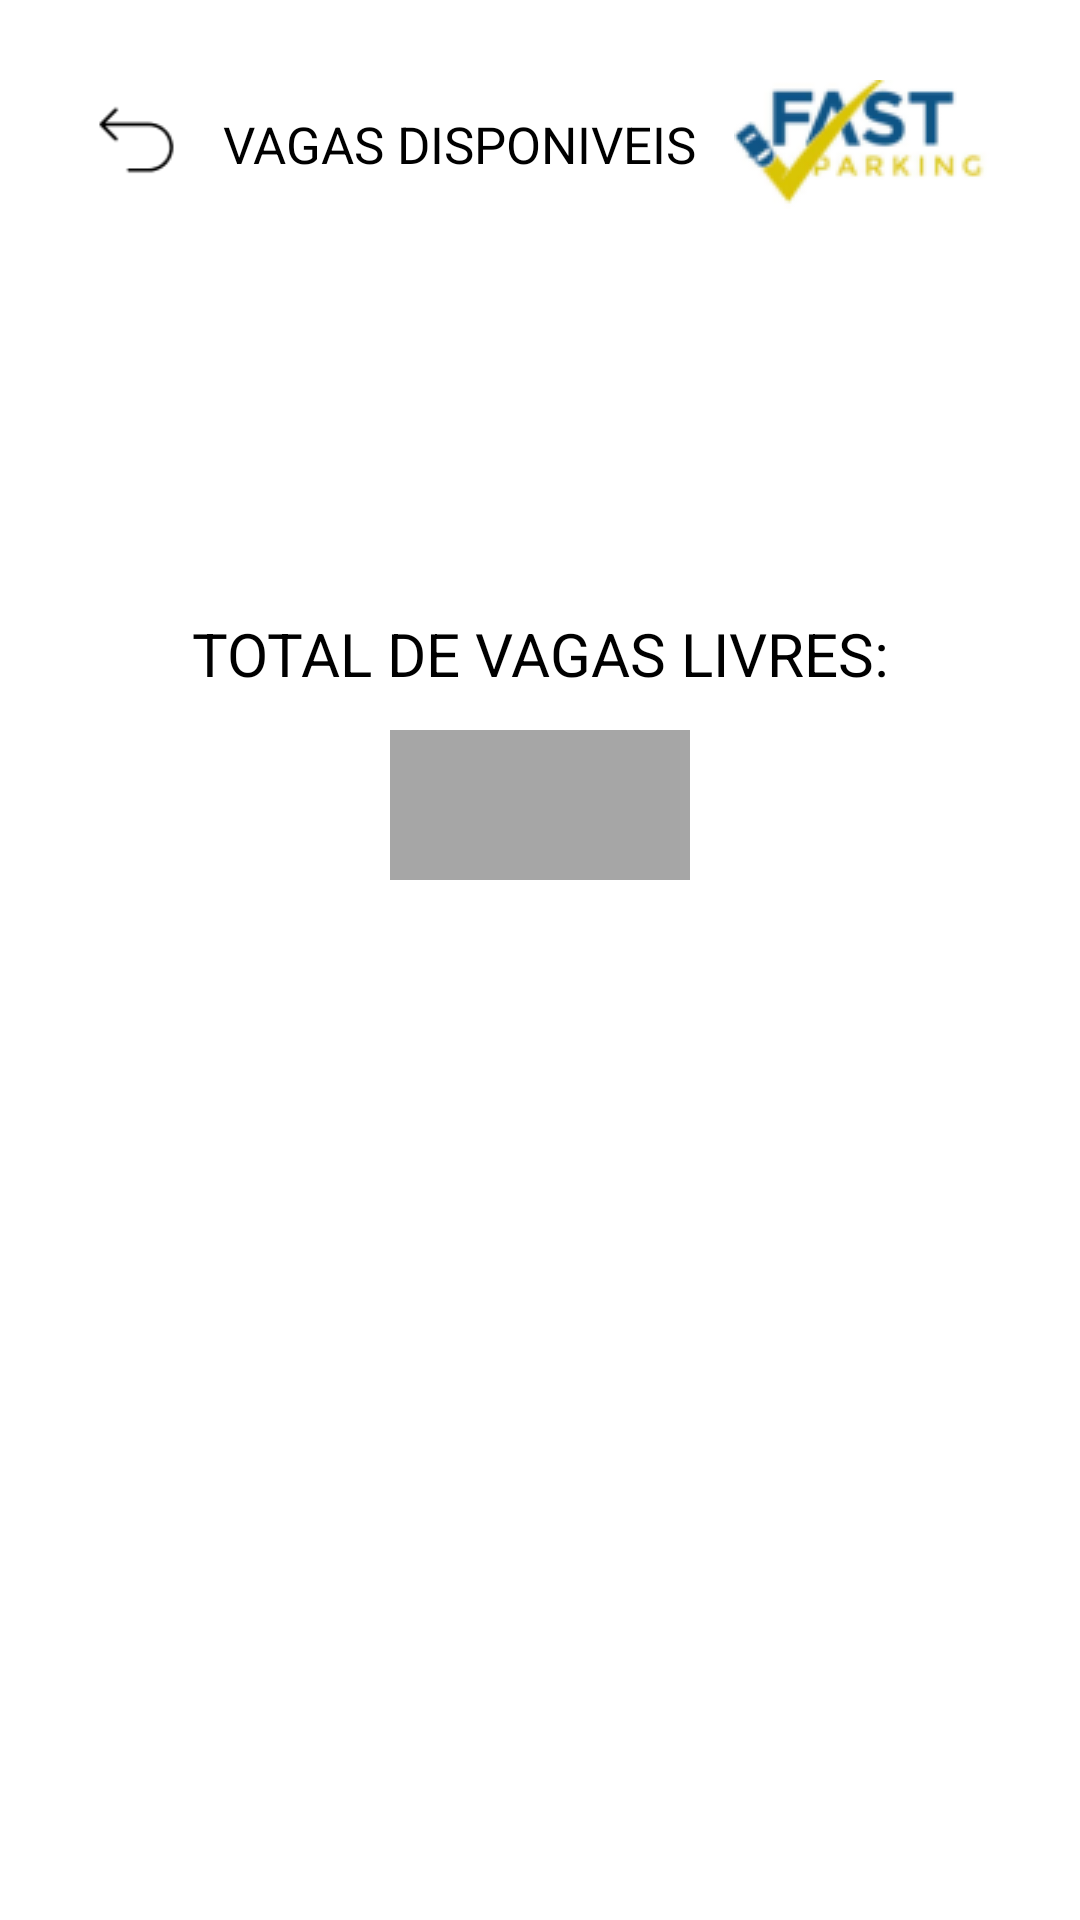

Named icons in this screenshot (1080px×1920px) and their bounding boxes, (x1, y1, x2, y2):
voltar: (99, 107, 174, 173)
